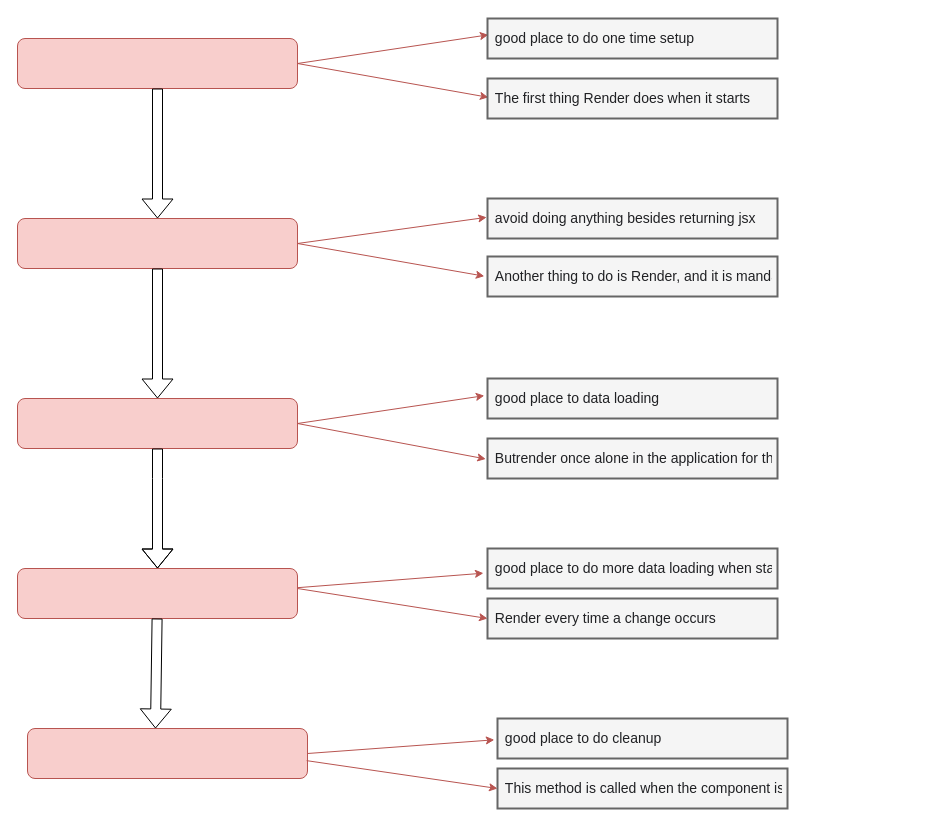
Some shapes in this 951 by 826 pixel diagram are drawn without their labels. Here are the shapes that lost their labels. From the top down, the centre of each, then its label:
the point at 157,63: constructor
the point at 157,243: render
the point at 157,423: componentDidMount
the point at 157,593: componentDidUpdate
the point at 167,753: componentWillUnmount
